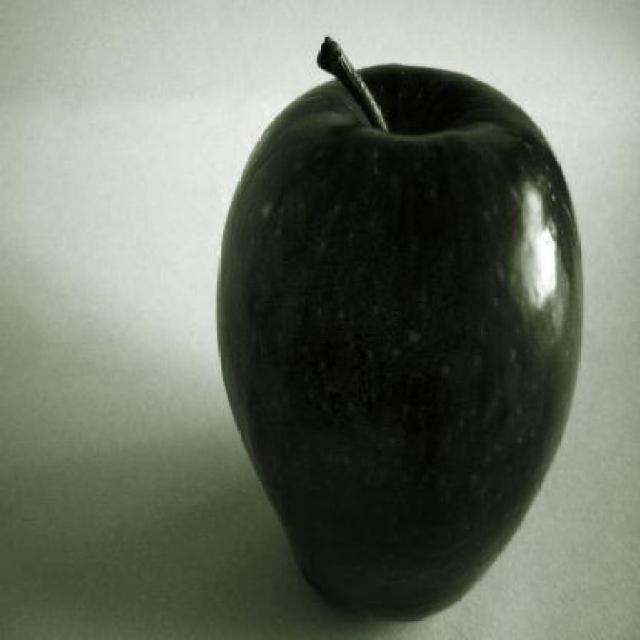Apple pie: (215, 59, 577, 616)
